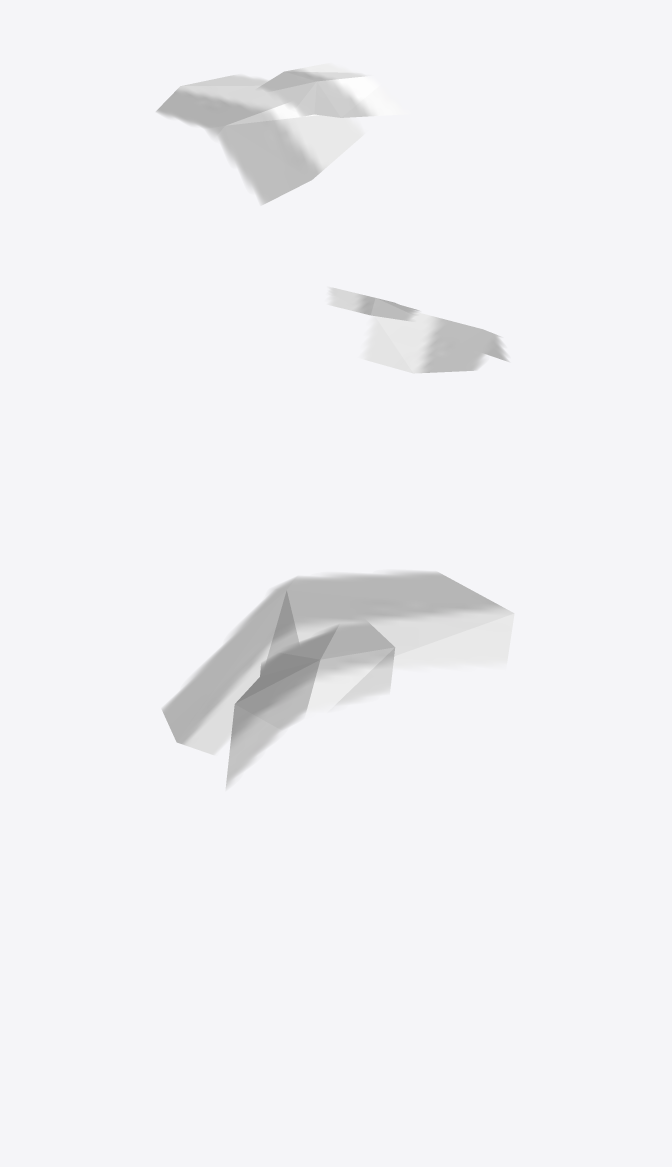
File: ancient_SM_Env_Ivy_Draped_Flowers_03.gltf
3 views of the same model, one above another, from view 1: azimuth 30°, elevation 25°; view 2: azimuth 150°, elevation 25°; view 3: azimuth 270°, elevation 25° (orthographic). The views are drawn at different scales.
Parts seen in each view (by area): view 1: SM_Env_Ivy_Draped_Flowers_03; view 2: SM_Env_Ivy_Draped_Flowers_03; view 3: SM_Env_Ivy_Draped_Flowers_03.
Part boxes in pixels (x1,y1,x2,y2): SM_Env_Ivy_Draped_Flowers_03: (156, 63, 410, 205); SM_Env_Ivy_Draped_Flowers_03: (327, 287, 509, 373); SM_Env_Ivy_Draped_Flowers_03: (161, 570, 514, 790).
Size of the model in its own units: 3.11 by 0.5479 by 0.7581.
Materials: 1 (1 with a texture image).
